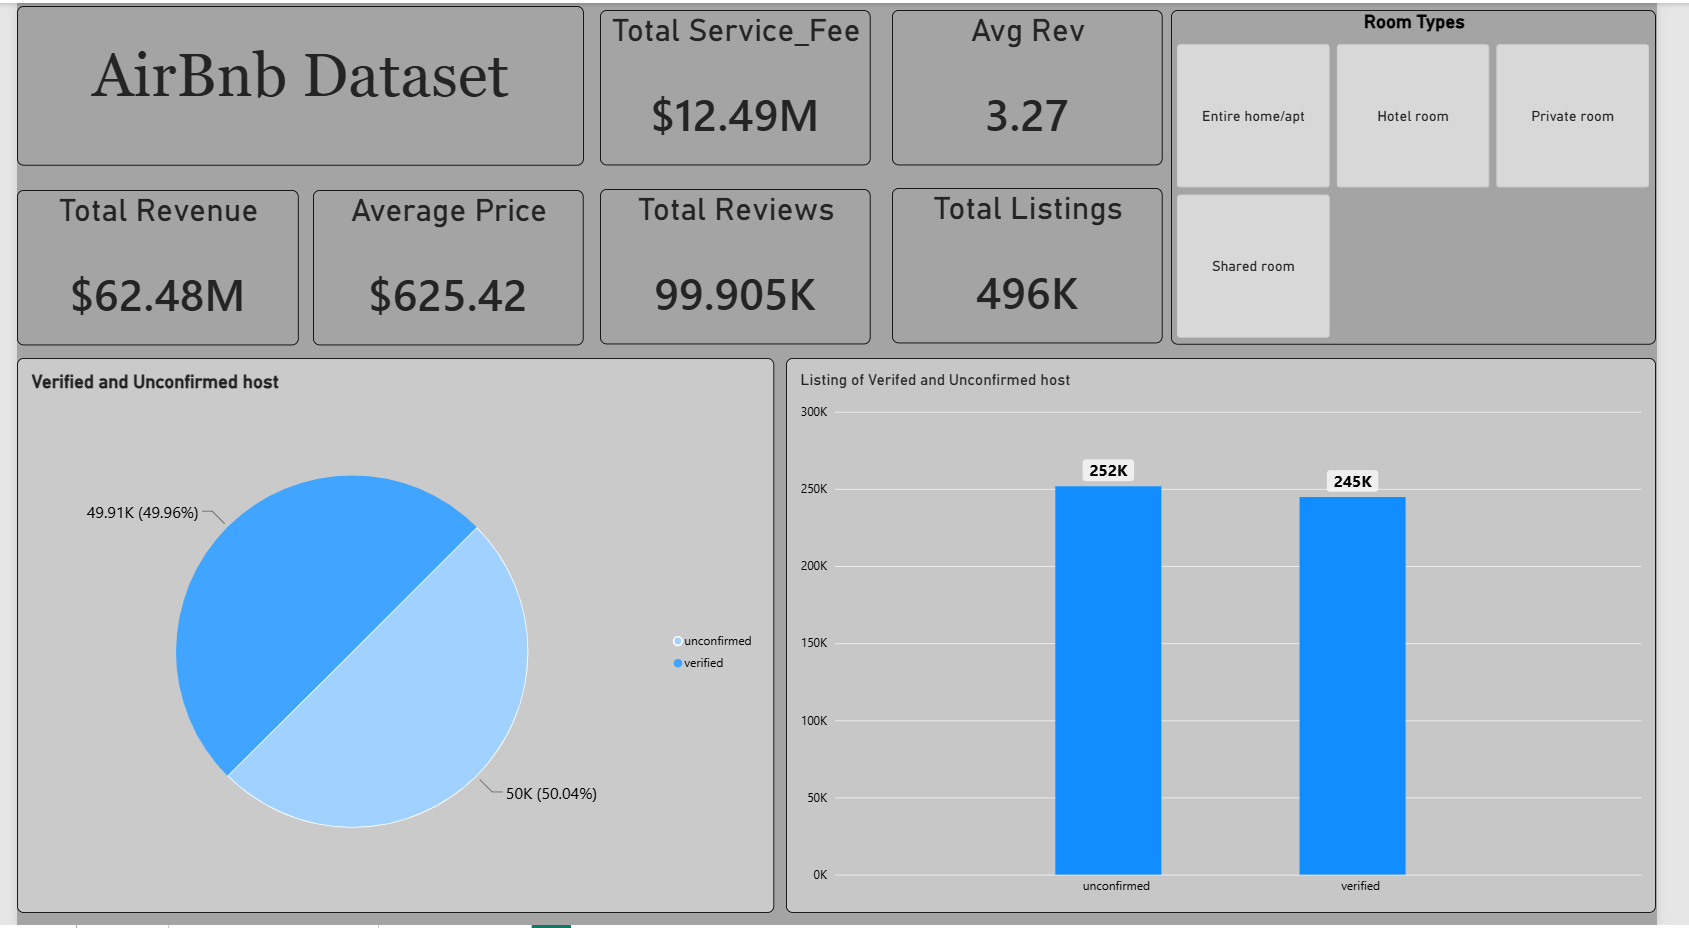

Layout of this report page (visuals, bound fields, positions):
{"tool":"powerbi","page":{"name":"Overview","canvas":[1920,1080],"ordinal":0},"visuals":[{"type":"cardVisual","title":"Total Revenue","fields":{"Data":["Sum(public data_clean.price)"]},"box":[0,218.7,329.9,182.4],"z":0},{"type":"cardVisual","title":"Total Service_Fee","fields":{"Data":["Sum(public data_clean.service_fee)"]},"box":[683.1,8,317,182.4],"z":1000},{"type":"pieChart","title":"Verified and Unconfirmed host","fields":{"Category":["public data_clean.host_identity_verified"],"Y":["Count(public data_clean.id)"]},"box":[0,416.3,887.3,649.8],"z":2000},{"type":"cardVisual","title":"Average Price","fields":{"Data":["Avg(public data_clean.price)"]},"box":[346.9,218.8,317,182.4],"z":3000},{"type":"lineStackedColumnComboChart","title":"Listing of Verifed and Unconfirmed host","fields":{"Category":["public data_clean.host_identity_verified"],"Y":["Sum(public data_clean.calculate_host_listings_count)"]},"box":[900.6,416.3,1019.4,640.4],"z":4000},{"type":"cardVisual","title":"Total Listings","fields":{"Data":["Sum(public data_clean.calculate_host_listings_count)"]},"box":[1024.7,216.2,317,182.4],"z":5000},{"type":"cardVisual","title":"Total Reviews","fields":{"Data":["CountNonNull(public data_clean.number_of_reviews)"]},"box":[683.1,217.5,317,182.4],"z":6000},{"type":"cardVisual","title":"Avg Rev","fields":{"Data":["Avg(public data_clean.review_rate_number)"]},"box":[1024.7,8,317,182.4],"z":7000},{"type":"textbox","box":[0,3.5,664.3,187.3],"z":8000},{"type":"advancedSlicerVisual","title":"Room Types","fields":{"Values":["public data_clean.room_type"]},"box":[1351.6,8,568.4,392.3],"z":9000}]}

Visuals, with their boxes in screenshot pixels (x1, y1, x2, y2), scaled from the page's 1920x1080 canvas onto the 1689x928 screenshot:
"Total Revenue" cardVisual: region(0, 188, 290, 345)
"Total Service_Fee" cardVisual: region(601, 7, 880, 164)
"Verified and Unconfirmed host" pieChart: region(0, 358, 781, 916)
"Average Price" cardVisual: region(305, 188, 584, 345)
"Listing of Verifed and Unconfirmed host" lineStackedColumnComboChart: region(792, 358, 1688, 908)
"Total Listings" cardVisual: region(901, 186, 1180, 343)
"Total Reviews" cardVisual: region(601, 187, 880, 344)
"Avg Rev" cardVisual: region(901, 7, 1180, 164)
textbox: region(0, 3, 584, 164)
"Room Types" advancedSlicerVisual: region(1189, 7, 1688, 344)
